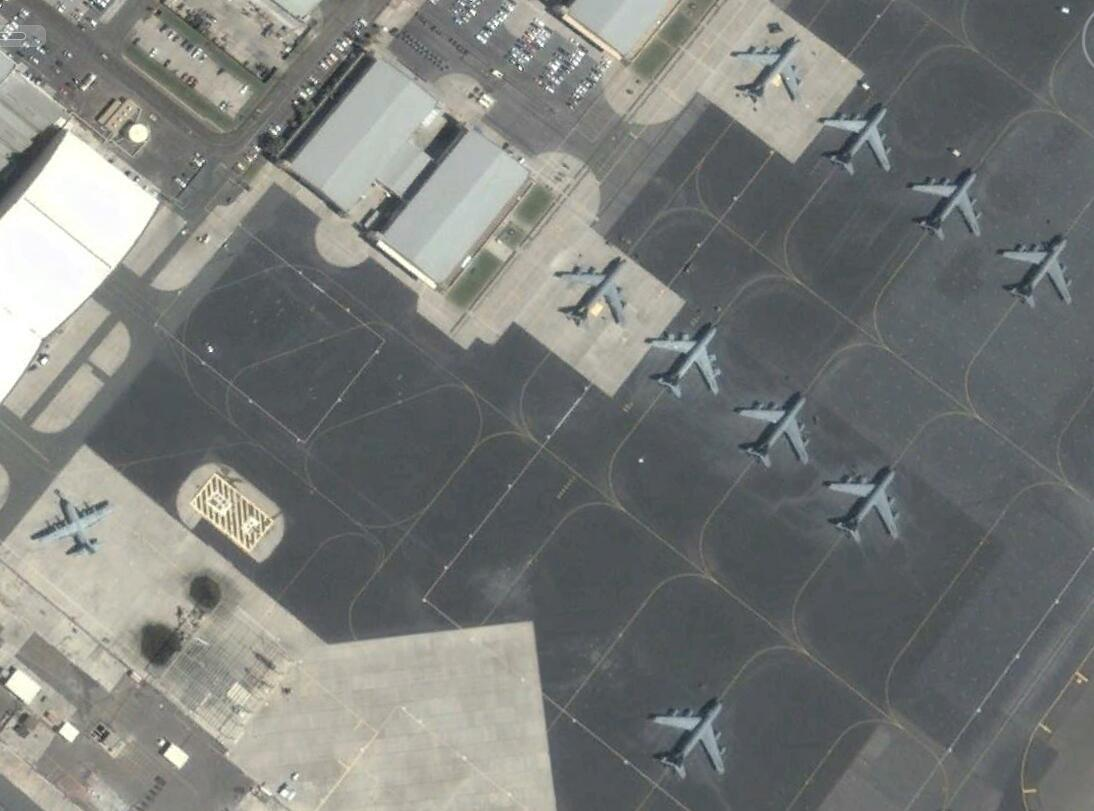A14: (652, 694, 731, 776), (817, 97, 896, 179), (646, 316, 725, 394), (911, 164, 987, 244), (828, 462, 903, 543), (738, 388, 814, 466), (555, 252, 632, 324), (1002, 234, 1076, 308), (732, 30, 805, 102)
A2: (28, 496, 120, 557)
